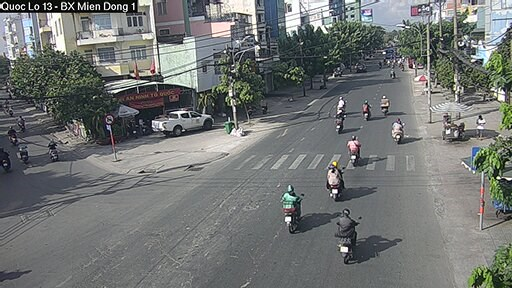car: (144, 106, 226, 131)
motorbike: (331, 208, 360, 255), (272, 188, 301, 225), (344, 137, 369, 167), (387, 122, 413, 143), (326, 159, 339, 196)
